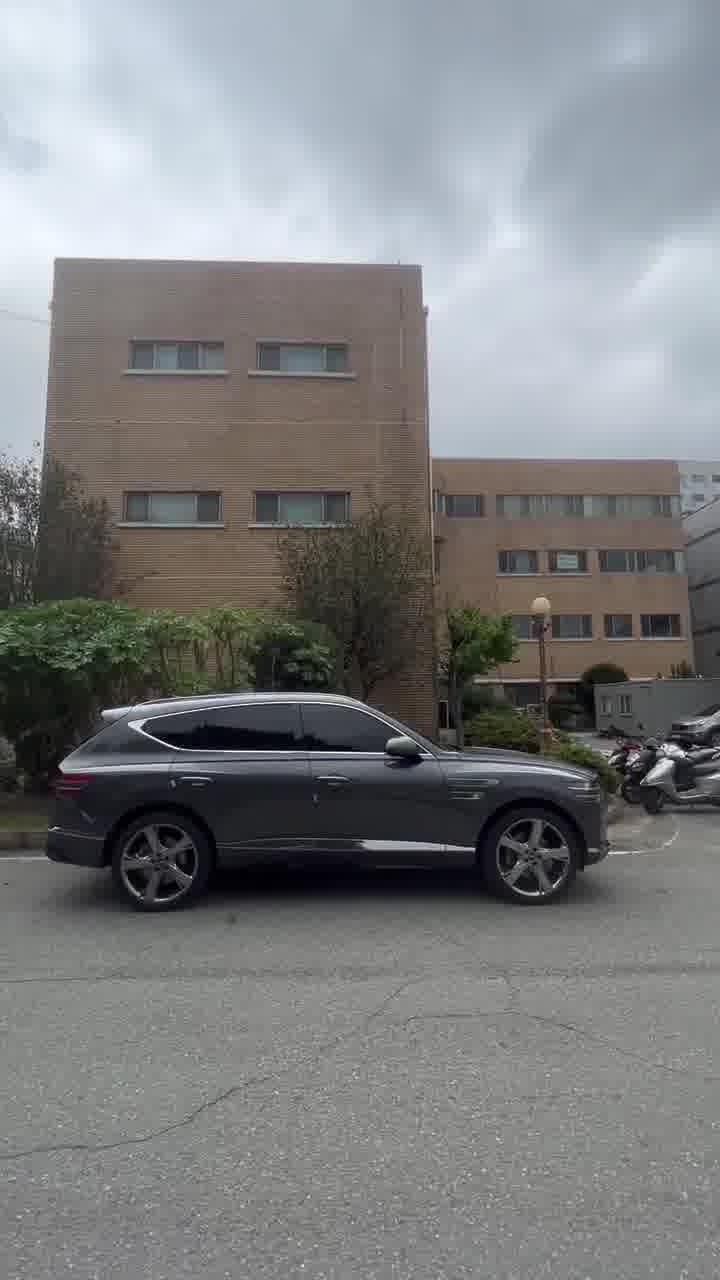building: (48, 254, 692, 632)
